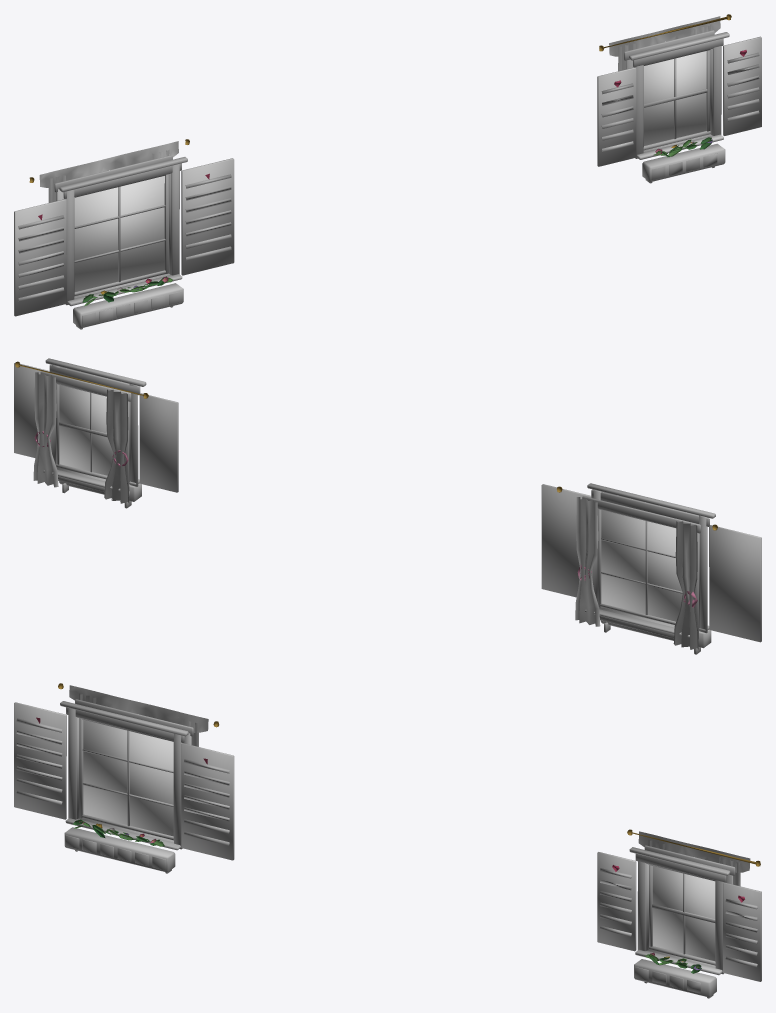
Rendered from bld_home_shell2_lite.glb.
3 views of the same model, one above another, from view 1: azimuth 30°, elevation 25°; view 2: azimuth 150°, elevation 25°; view 3: azimuth 330°, elevation 25° (orthographic).
Parts seen in each view (by area): view 1: INST_bld_home_shell2_lite_window_m_s_shutter, INST_bld_home_shell2_lite_window_m_s_glass, INST_bld_home_shell2_lite_window_s_s_shutter, INST_bld_home_shell2_lite_window_m_s_trim, INST_bld_home_shell2_lite_window_s_s_trim, INST_bld_home_shell2_lite_window_s_s_glass, INST_bld_home_shell2_lite_window_m_s_box, INST_bld_home_shell2_lite_window_m_s_curtain, INST_bld_home_shell2_lite_window_s_s_box, INST_bld_home_shell2_lite_window_s_s_curtain, INST_bld_home_shell2_lite_window_s_s_fixed, INST_bld_home_shell2_lite_window_m_s_fixed; view 2: INST_bld_home_shell2_lite_window_m_s_shutter, INST_bld_home_shell2_lite_window_m_s_glass, INST_bld_home_shell2_lite_window_m_s_trim, INST_bld_home_shell2_lite_window_s_s_shutter, INST_bld_home_shell2_lite_window_m_s_curtain, INST_bld_home_shell2_lite_window_s_s_trim, INST_bld_home_shell2_lite_window_s_s_curtain, INST_bld_home_shell2_lite_window_s_s_glass, INST_bld_home_shell2_lite_window_m_s_box; view 3: INST_bld_home_shell2_lite_window_m_s_shutter, INST_bld_home_shell2_lite_window_m_s_glass, INST_bld_home_shell2_lite_window_s_s_shutter, INST_bld_home_shell2_lite_window_m_s_trim, INST_bld_home_shell2_lite_window_s_s_trim, INST_bld_home_shell2_lite_window_s_s_glass, INST_bld_home_shell2_lite_window_m_s_box, INST_bld_home_shell2_lite_window_m_s_curtain, INST_bld_home_shell2_lite_window_s_s_box, INST_bld_home_shell2_lite_window_s_s_curtain, INST_bld_home_shell2_lite_window_s_s_fixed, INST_bld_home_shell2_lite_window_m_s_fixed.
Boxes of the visible parts, x1,y1,x2,y2 form: INST_bld_home_shell2_lite_window_m_s_shutter: (14, 158, 234, 316); INST_bld_home_shell2_lite_window_m_s_glass: (74, 176, 164, 291); INST_bld_home_shell2_lite_window_s_s_shutter: (597, 36, 761, 166); INST_bld_home_shell2_lite_window_m_s_trim: (54, 155, 187, 306); INST_bld_home_shell2_lite_window_s_s_trim: (624, 30, 729, 159); INST_bld_home_shell2_lite_window_s_s_glass: (644, 51, 706, 145); INST_bld_home_shell2_lite_window_m_s_box: (73, 283, 183, 329); INST_bld_home_shell2_lite_window_m_s_curtain: (39, 141, 178, 202); INST_bld_home_shell2_lite_window_s_s_box: (642, 143, 725, 183); INST_bld_home_shell2_lite_window_s_s_curtain: (609, 16, 720, 71); INST_bld_home_shell2_lite_window_s_s_fixed: (599, 14, 746, 157); INST_bld_home_shell2_lite_window_m_s_fixed: (29, 139, 209, 306); INST_bld_home_shell2_lite_window_m_s_shutter: (541, 484, 761, 642); INST_bld_home_shell2_lite_window_m_s_glass: (601, 510, 682, 621); INST_bld_home_shell2_lite_window_m_s_trim: (582, 483, 715, 638); INST_bld_home_shell2_lite_window_s_s_shutter: (14, 362, 178, 492); INST_bld_home_shell2_lite_window_m_s_curtain: (575, 497, 698, 649); INST_bld_home_shell2_lite_window_s_s_trim: (40, 358, 146, 497); INST_bld_home_shell2_lite_window_s_s_curtain: (33, 372, 129, 503); INST_bld_home_shell2_lite_window_s_s_glass: (59, 385, 113, 475); INST_bld_home_shell2_lite_window_m_s_box: (600, 620, 711, 654); INST_bld_home_shell2_lite_window_m_s_shutter: (14, 702, 234, 860); INST_bld_home_shell2_lite_window_m_s_glass: (83, 720, 173, 836); INST_bld_home_shell2_lite_window_s_s_shutter: (597, 852, 761, 981); INST_bld_home_shell2_lite_window_m_s_trim: (60, 699, 193, 850); INST_bld_home_shell2_lite_window_s_s_trim: (629, 845, 735, 975); INST_bld_home_shell2_lite_window_s_s_glass: (652, 866, 715, 960); INST_bld_home_shell2_lite_window_m_s_box: (64, 827, 175, 873); INST_bld_home_shell2_lite_window_m_s_curtain: (69, 685, 208, 746); INST_bld_home_shell2_lite_window_s_s_box: (634, 959, 716, 998); INST_bld_home_shell2_lite_window_s_s_curtain: (638, 831, 750, 886); INST_bld_home_shell2_lite_window_s_s_fixed: (612, 829, 760, 973); INST_bld_home_shell2_lite_window_m_s_fixed: (36, 683, 219, 846).
Bounding box in the file's own units: 10.76 × 2.03 × 0.643.
